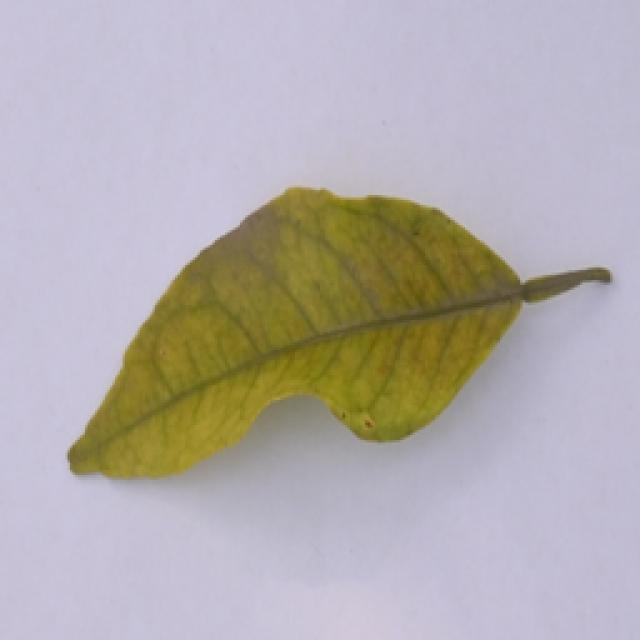greening: (64, 176, 613, 507)
